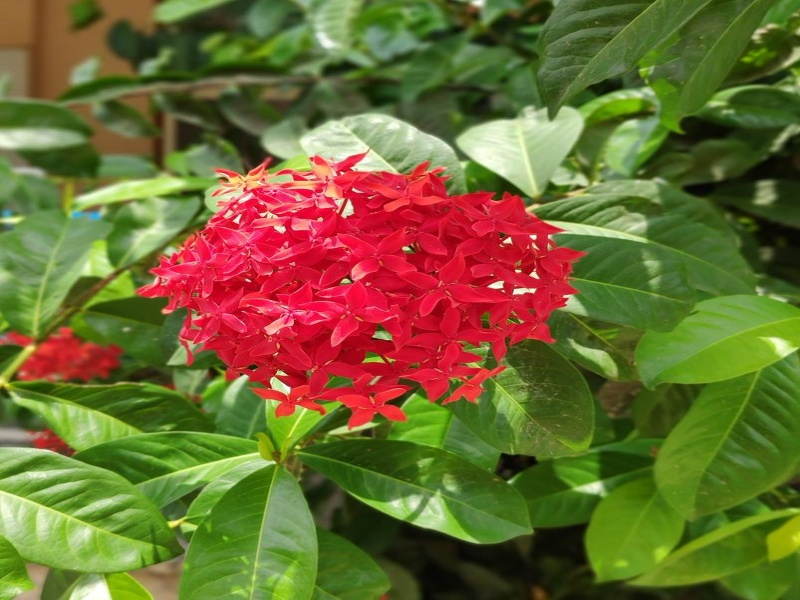Ixora: (126, 150, 597, 440)
